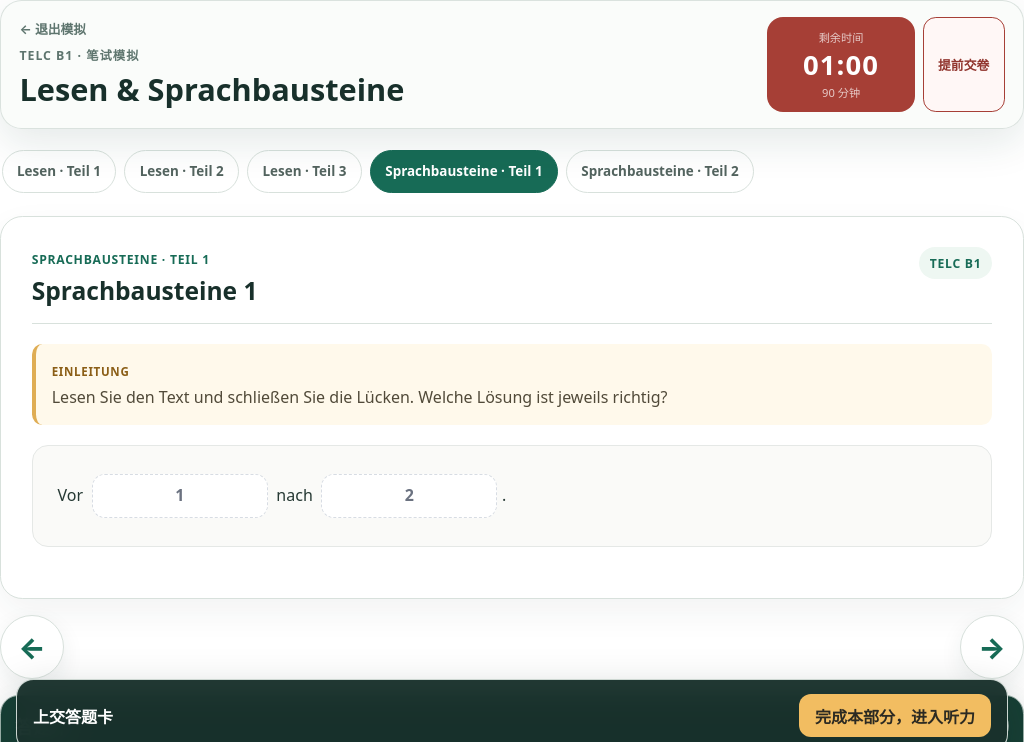
mock exam annotations › keeps cloze source text in a part flow and excludes both cloze option surfaces
Expected: the heading "Sprachbausteine 1" is shown, [32,274,258,307]
Click the button "1" at {"x": 180, "y": 496}, box [92,474,268,518]
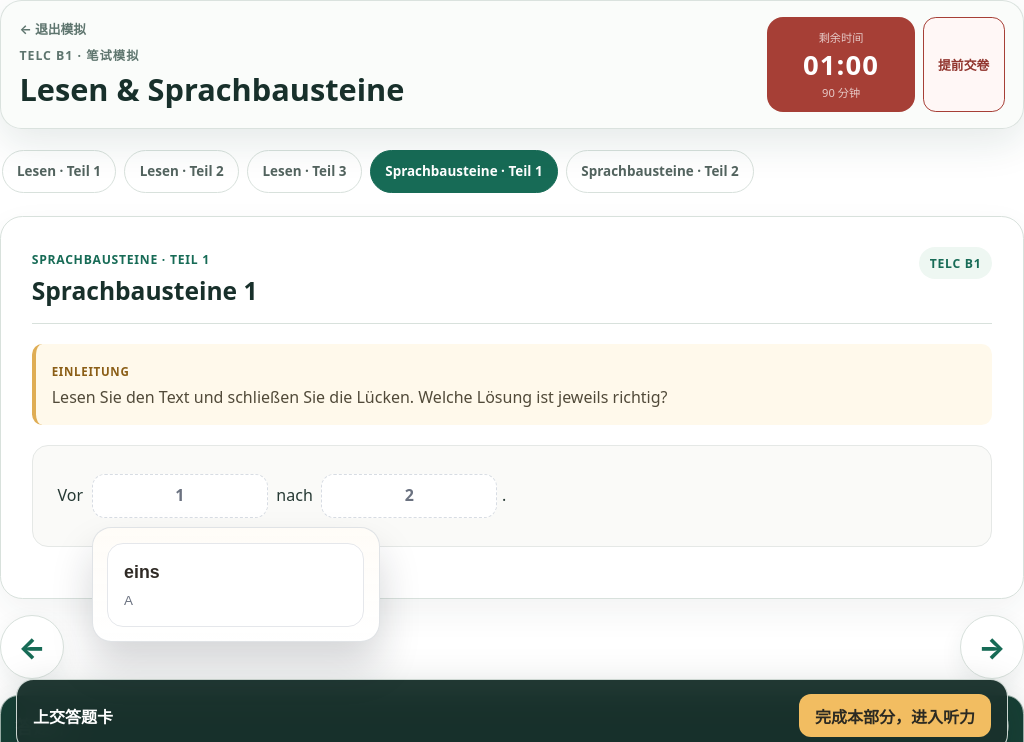
Click the button "eins A" at {"x": 236, "y": 585}, box [107,543,364,627]
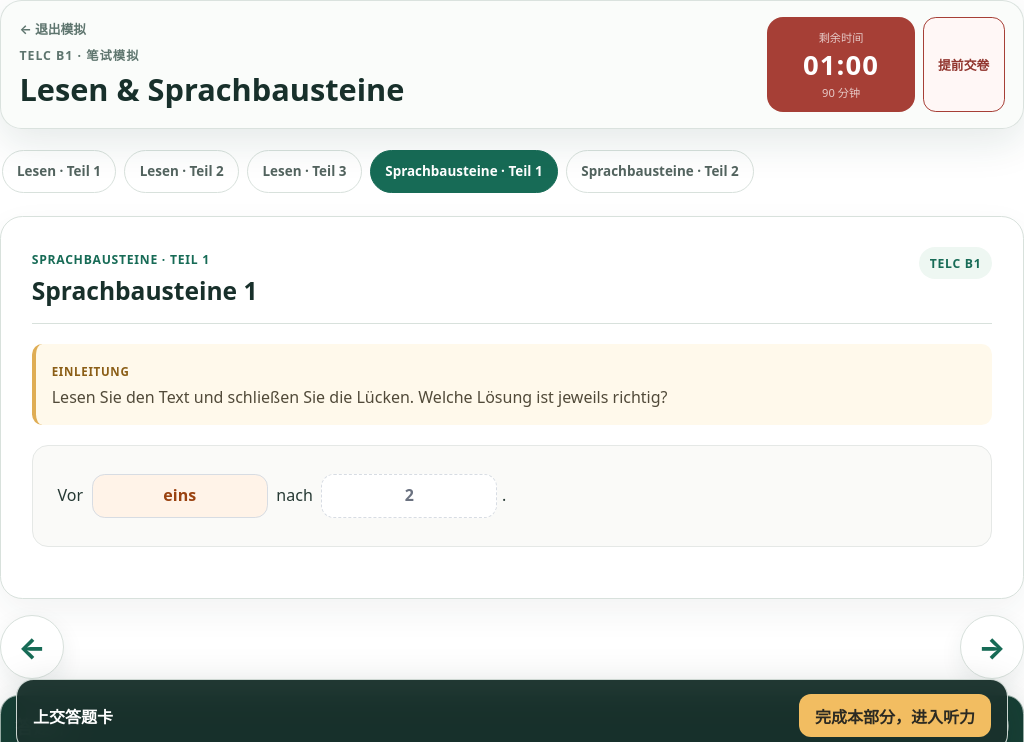
Click the button "Sprachbausteine · Teil 2" at {"x": 660, "y": 171}, box [566,150,754,193]
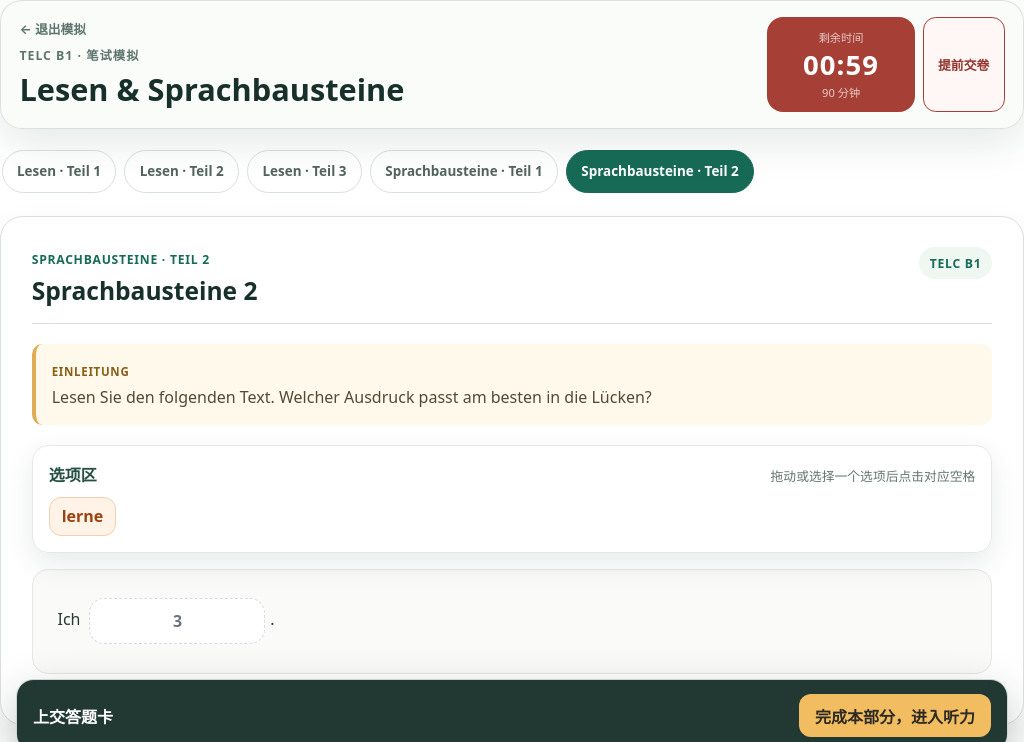
Expected: the heading "Sprachbausteine 2" is shown, [32,274,258,307]
